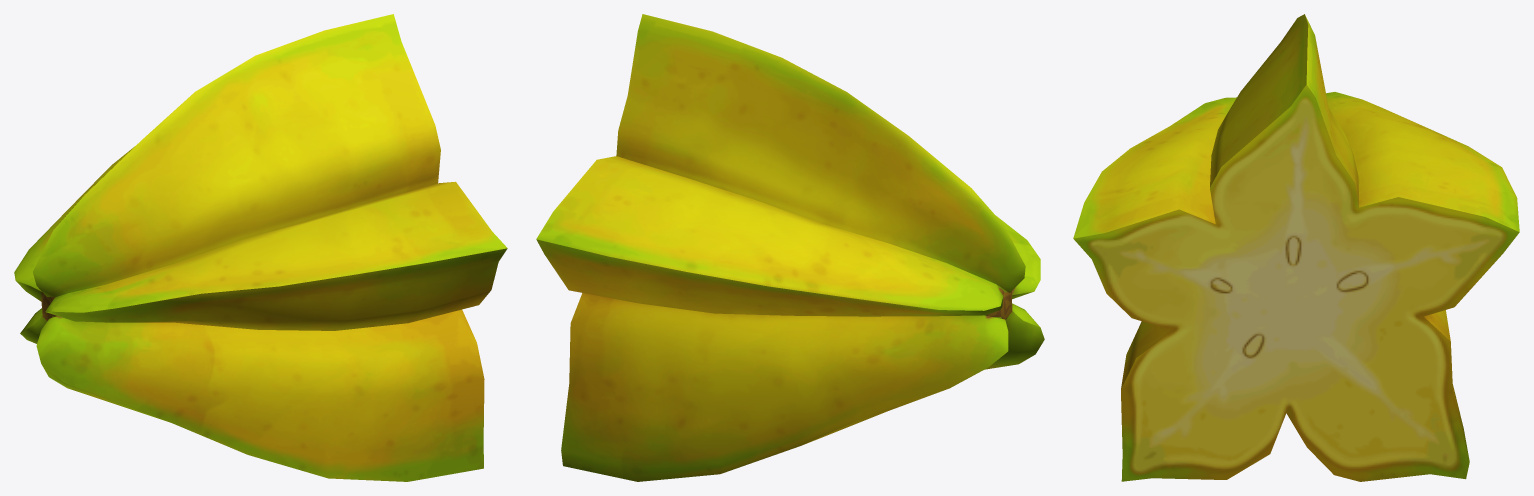
File: SM_StarFruitCutA.fbx
3 renders of one model, left to right at view 1: azimuth 30°, elevation 25°; view 2: azimuth 150°, elevation 25°; view 3: azimuth 270°, elevation 25°, orthographic. The views are drawn at different scales.
Parts seen in each view (by area): view 1: SM_StarFruitCutA; view 2: SM_StarFruitCutA; view 3: SM_StarFruitCutA.
Boxes of the visible parts, x1=… form: SM_StarFruitCutA: x1=14, y1=14, x2=507, y2=481; SM_StarFruitCutA: x1=536, y1=14, x2=1044, y2=481; SM_StarFruitCutA: x1=1073, y1=14, x2=1519, y2=481.
Size of the model in its own units: 11.31 by 11.24 by 11.44.
